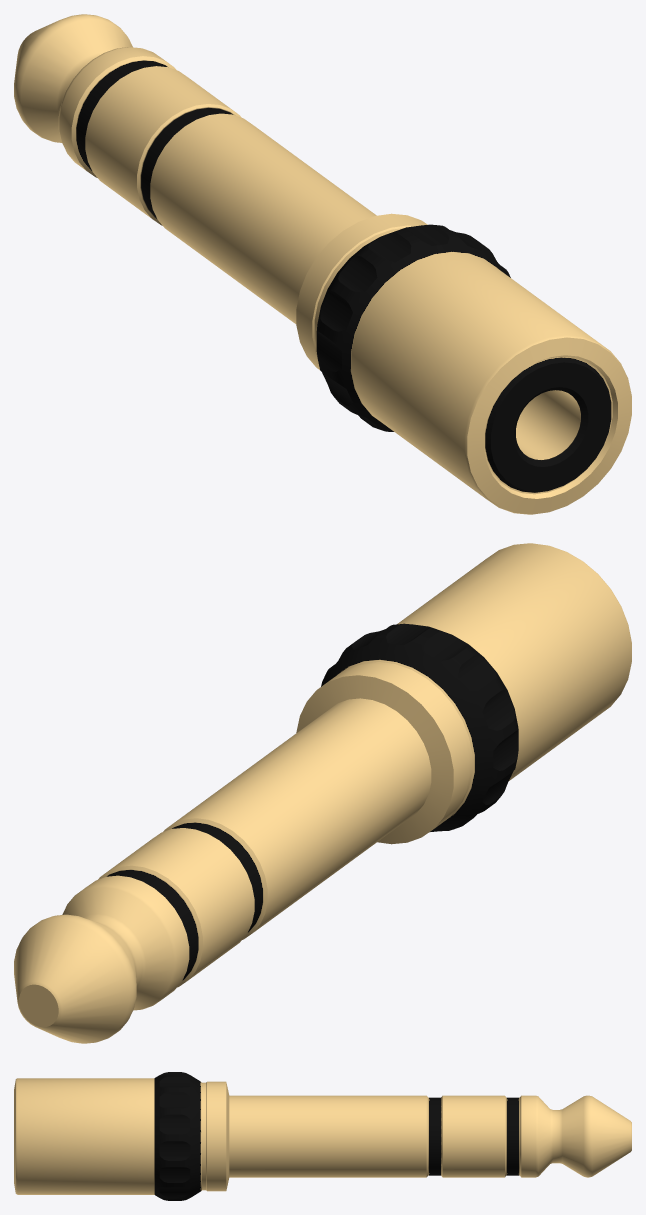
File: Cable.glb
3 views of the same model, one above another, from view 1: azimuth 30°, elevation 25°; view 2: azimuth 150°, elevation 25°; view 3: azimuth 270°, elevation 25° (orthographic). The views are drawn at different scales.
Visible parts, largest first — view 1: Plug; view 2: Plug; view 3: Plug.
Part boxes in pixels (bbox=[...]): Plug: bbox=[14, 14, 631, 514]; Plug: bbox=[14, 543, 631, 1043]; Plug: bbox=[14, 1072, 631, 1200].
Size of the model in its own units: 0.0362 by 0.0362 by 0.1738.
Materials: 1 (1 with a texture image).
